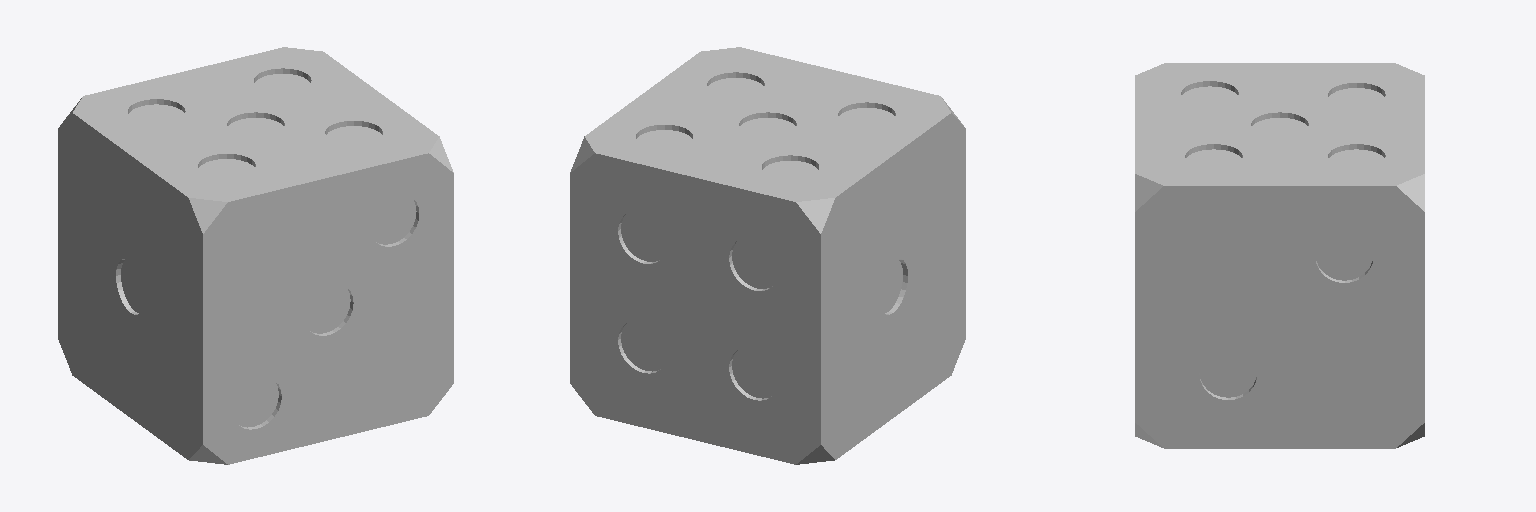
File: block1.obj
3 views of the same model, side by side, from view 1: azimuth 30°, elevation 25°; view 2: azimuth 150°, elevation 25°; view 3: azimuth 270°, elevation 25° (orthographic).
Parts seen in each view (by area): view 1: Mesh1 DICE1 Model; view 2: Mesh1 DICE1 Model; view 3: Mesh1 DICE1 Model.
Boxes of the visible parts, <box> form: Mesh1 DICE1 Model: <box>58,47,453,464</box>; Mesh1 DICE1 Model: <box>570,47,965,464</box>; Mesh1 DICE1 Model: <box>1135,63,1424,448</box>.
Size of the model in its own units: 1.19 by 1.19 by 1.19.